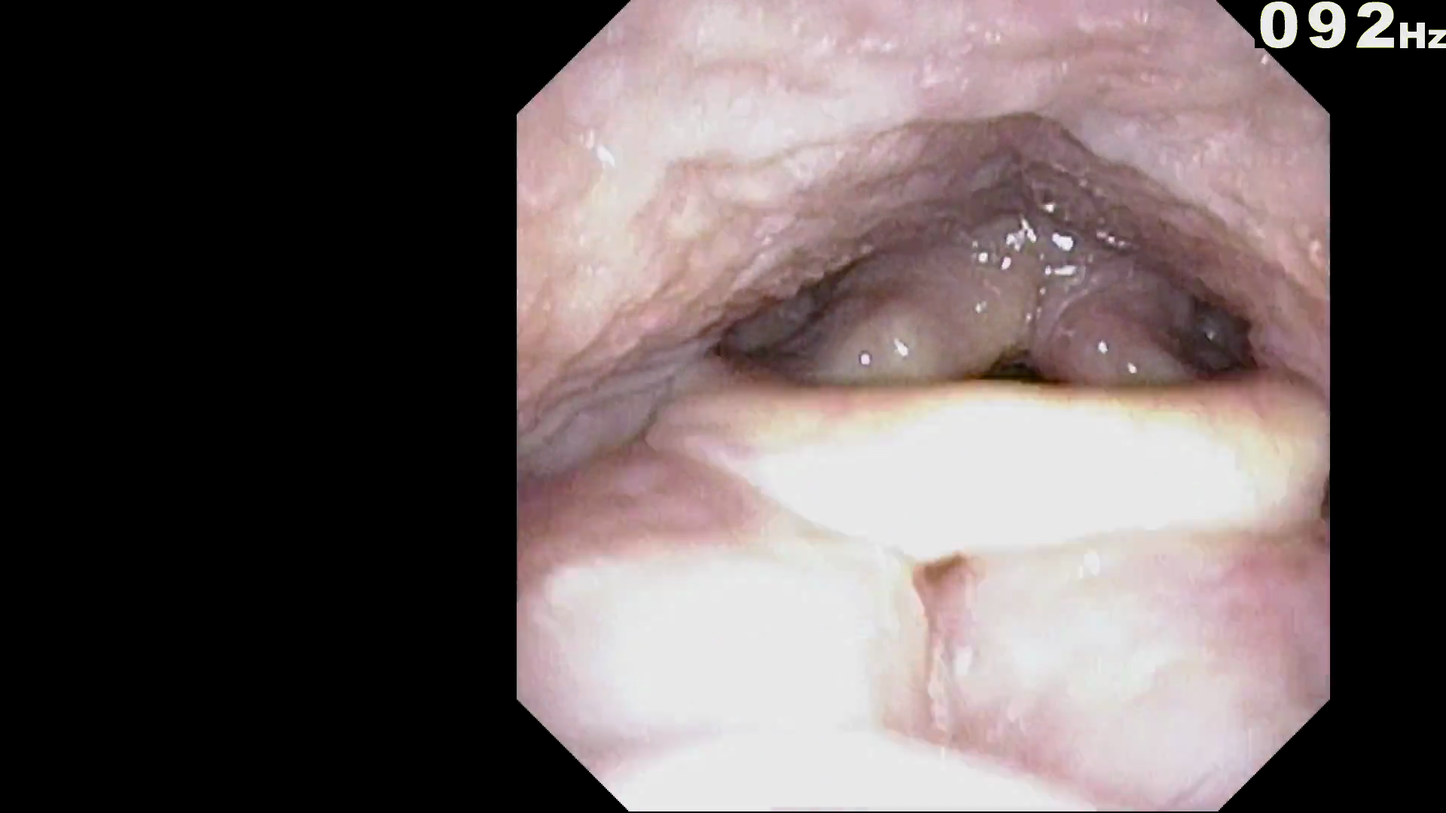epiglottis: (660, 312, 1312, 620)
trachea: (940, 269, 1084, 423)
